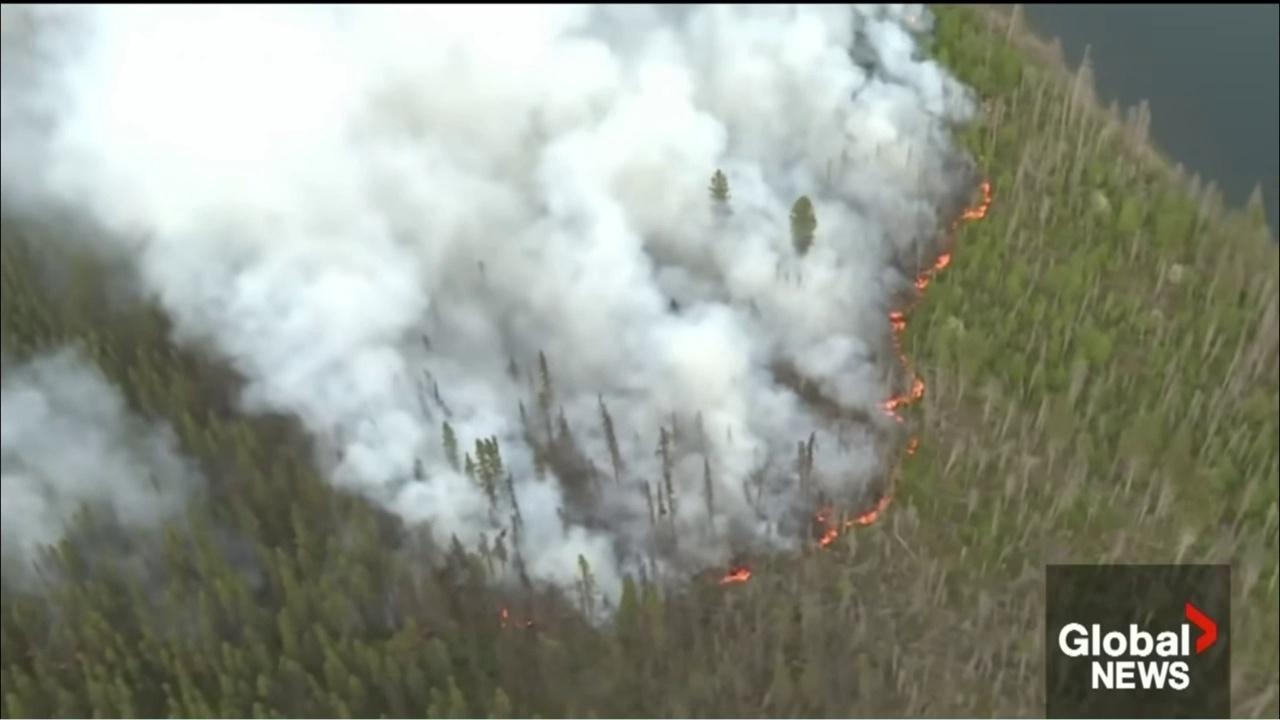fire: (907, 172, 997, 292), (870, 310, 932, 428), (815, 488, 898, 548), (715, 563, 754, 587), (905, 436, 923, 460), (496, 605, 510, 629)
smoke: (0, 3, 984, 630), (1, 334, 282, 664)
